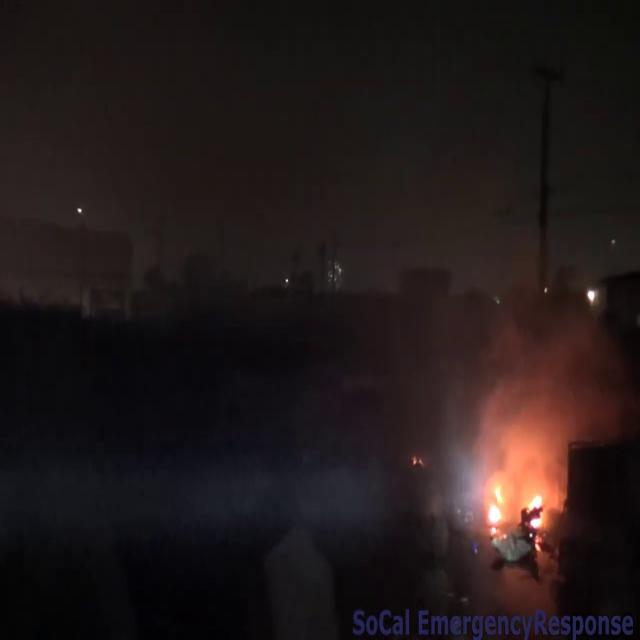Fire: (481, 453, 553, 531)
Smoke: (444, 272, 634, 474)
